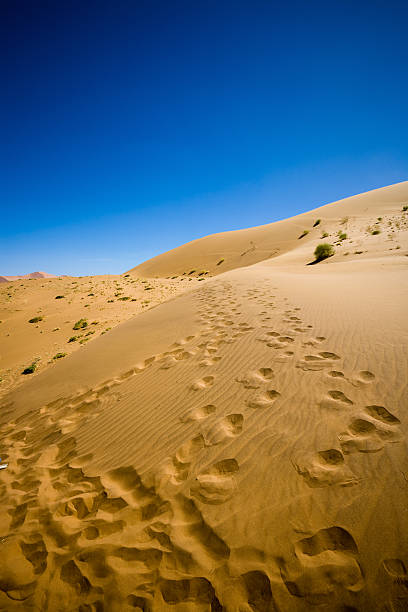animal_foot_print: (0, 396, 76, 612), (278, 526, 364, 604), (76, 350, 150, 401), (339, 405, 400, 452), (293, 448, 358, 487), (190, 458, 238, 503), (378, 558, 407, 611), (205, 413, 243, 445), (296, 351, 339, 370), (235, 367, 273, 388), (320, 390, 353, 410), (180, 404, 215, 422), (246, 389, 279, 408), (190, 375, 214, 390)
